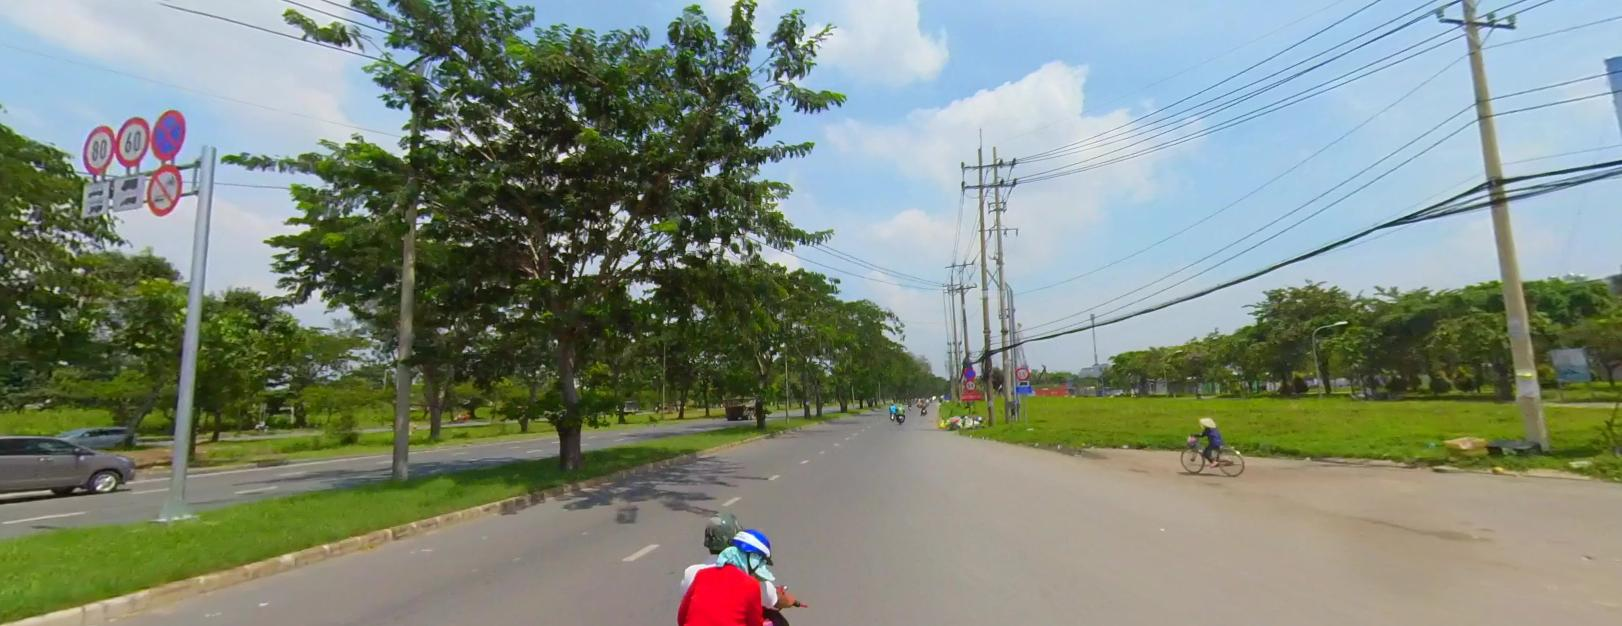Cam con lai: (146, 163, 181, 215)
Cam dung va do: (151, 109, 185, 159), (964, 367, 977, 377)
Gioi han toc do: (115, 116, 150, 166), (83, 126, 114, 172), (1015, 366, 1028, 378), (964, 378, 975, 389)
